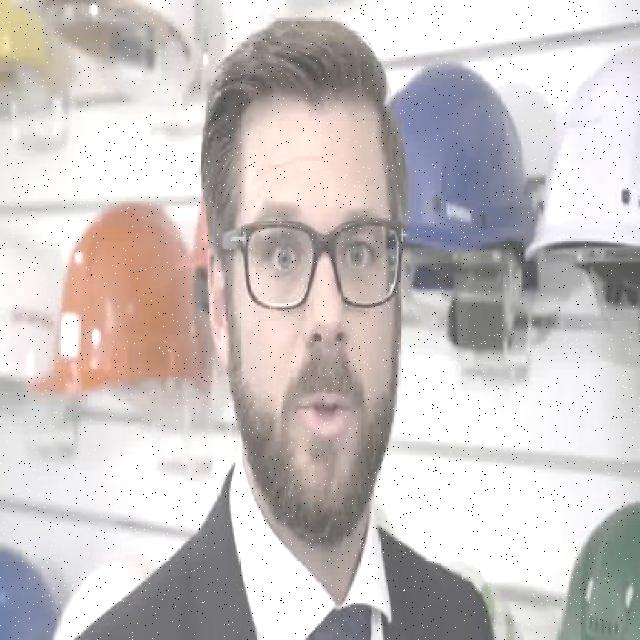Helmet: (378, 59, 538, 298), (28, 196, 208, 396), (523, 44, 639, 270), (43, 0, 208, 125), (550, 486, 638, 639), (0, 226, 66, 419), (49, 546, 171, 639), (0, 0, 71, 109), (0, 532, 60, 638)
